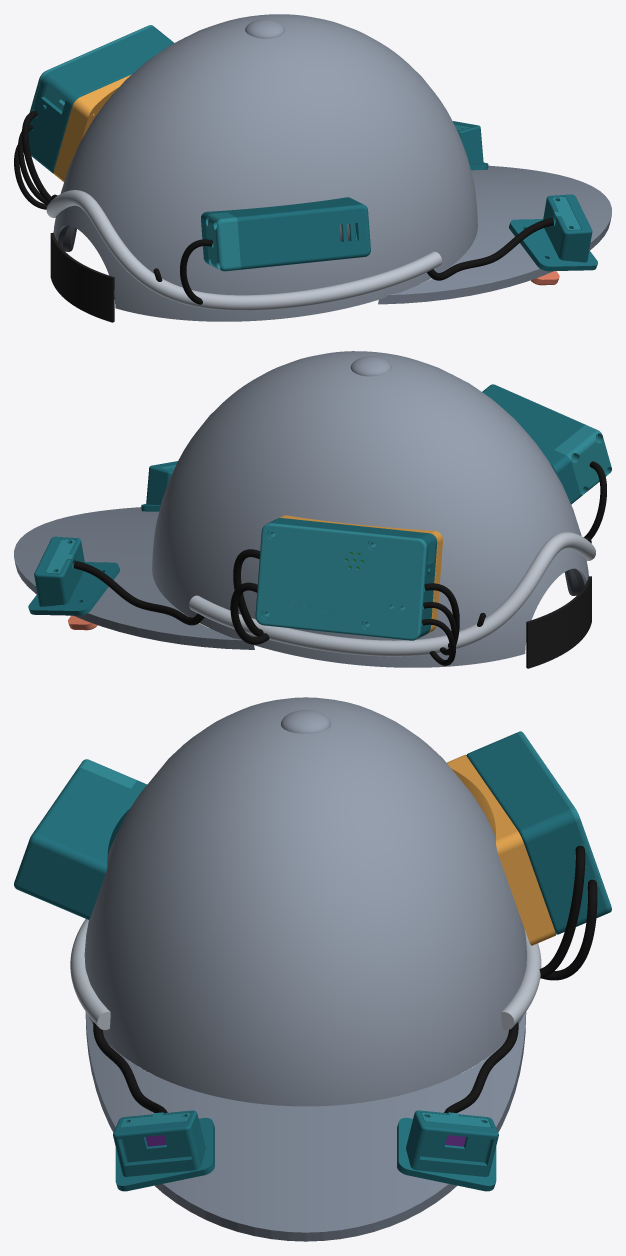
Rendered from provisao_v15_bone_montado.glb.
3 renders of one model, top to bottom at view 1: azimuth 30°, elevation 25°; view 2: azimuth 150°, elevation 25°; view 3: azimuth 270°, elevation 25°, orthographic. The views are drawn at different scales.
Visible parts, largest first — view 1: bone_copa, bone_aba, B1_case_bateria_corpo, bone_canaleta, A1_case_eletronica_corpo, S1_suporte_sensor_direito, bone_fita_regulagem, A3_case_eletronica_base_curva, B2_case_bateria_tampa, cabo_sensor_dir, S1_suporte_sensor_esquerdo, A2_case_eletronica_tampa (+6 smaller); view 2: bone_copa, A2_case_eletronica_tampa, bone_aba, bone_canaleta, S1_suporte_sensor_esquerdo, B1_case_bateria_corpo, bone_fita_regulagem, B2_case_bateria_tampa, A1_case_eletronica_corpo, cabo_sensor_esq, S1_suporte_sensor_direito, A3_case_eletronica_base_curva (+8 smaller); view 3: bone_copa, bone_aba, B1_case_bateria_corpo, A1_case_eletronica_corpo, S1_suporte_sensor_esquerdo, S1_suporte_sensor_direito, A3_case_eletronica_base_curva, bone_canaleta, cabo_case_a_sensor_2, cabo_case_a_sensor_1, A2_case_eletronica_tampa, cabo_sensor_esq (+2 smaller).
Boxes of the visible parts, x1=… form: bone_copa: x1=53, y1=14, x2=477, y2=321; bone_aba: x1=378, y1=165, x2=611, y2=304; B1_case_bateria_corpo: x1=201, y1=197, x2=370, y2=269; bone_canaleta: x1=46, y1=190, x2=441, y2=310; A1_case_eletronica_corpo: x1=28, y1=26, x2=173, y2=173; S1_suporte_sensor_direito: x1=509, y1=194, x2=597, y2=271; bone_fita_regulagem: x1=50, y1=232, x2=114, y2=322; A3_case_eletronica_base_curva: x1=53, y1=74, x2=131, y2=181; B2_case_bateria_tampa: x1=205, y1=212, x2=240, y2=271; cabo_sensor_dir: x1=427, y1=218, x2=553, y2=280; S1_suporte_sensor_esquerdo: x1=452, y1=121, x2=488, y2=170; A2_case_eletronica_tampa: x1=29, y1=25, x2=153, y2=124; bone_copa: x1=152, y1=351, x2=588, y2=667; A2_case_eletronica_tampa: x1=255, y1=523, x2=427, y2=640; bone_aba: x1=14, y1=507, x2=254, y2=649; bone_canaleta: x1=189, y1=532, x2=595, y2=656; S1_suporte_sensor_esquerdo: x1=28, y1=536, x2=119, y2=615; B1_case_bateria_corpo: x1=482, y1=384, x2=585, y2=504; bone_fita_regulagem: x1=526, y1=576, x2=591, y2=668; B2_case_bateria_tampa: x1=554, y1=425, x2=611, y2=496; A1_case_eletronica_corpo: x1=267, y1=518, x2=437, y2=638; cabo_sensor_esq: x1=73, y1=560, x2=204, y2=625; S1_suporte_sensor_direito: x1=141, y1=461, x2=177, y2=511; A3_case_eletronica_base_curva: x1=278, y1=515, x2=442, y2=633; bone_copa: x1=84, y1=697, x2=526, y2=1106; bone_aba: x1=85, y1=1012, x2=526, y2=1241; B1_case_bateria_corpo: x1=14, y1=768, x2=147, y2=919; A1_case_eletronica_corpo: x1=466, y1=732, x2=607, y2=934; S1_suporte_sensor_esquerdo: x1=397, y1=1110, x2=498, y2=1191; S1_suporte_sensor_direito: x1=113, y1=1110, x2=214, y2=1191; A3_case_eletronica_base_curva: x1=447, y1=754, x2=555, y2=945; bone_canaleta: x1=70, y1=919, x2=541, y2=1029; cabo_case_a_sensor_2: x1=539, y1=845, x2=585, y2=978; cabo_case_a_sensor_1: x1=541, y1=879, x2=597, y2=980; A2_case_eletronica_tampa: x1=517, y1=731, x2=611, y2=913; cabo_sensor_esq: x1=444, y1=1022, x2=518, y2=1113.
Size of the model in its own units: 274 by 130 by 214.
